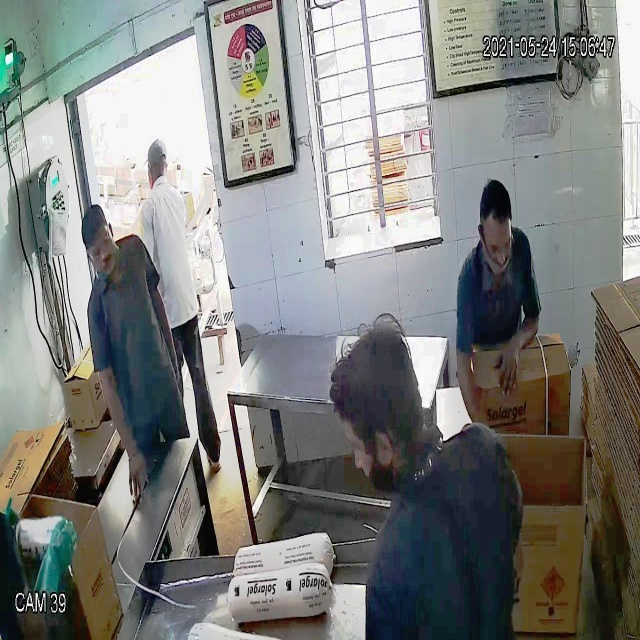Gafas: (85, 226, 114, 264)
